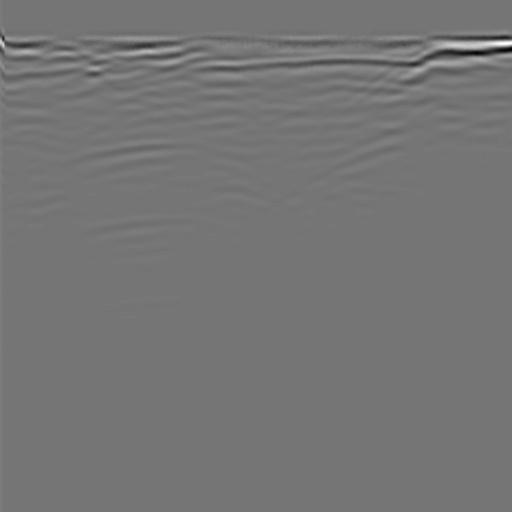hyperbola: (34, 126, 303, 255)
